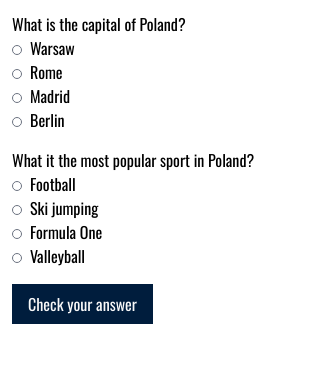
Test: Label Input Radio component › should display error message
Click the button "Check your answer".
click(82, 304)  # box 12,284 -> 153,324
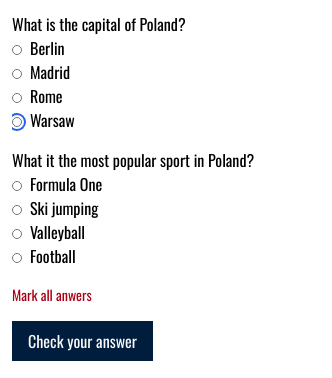
Expected: the text "Mark all anwers" is shown, 12,284 -> 92,305
